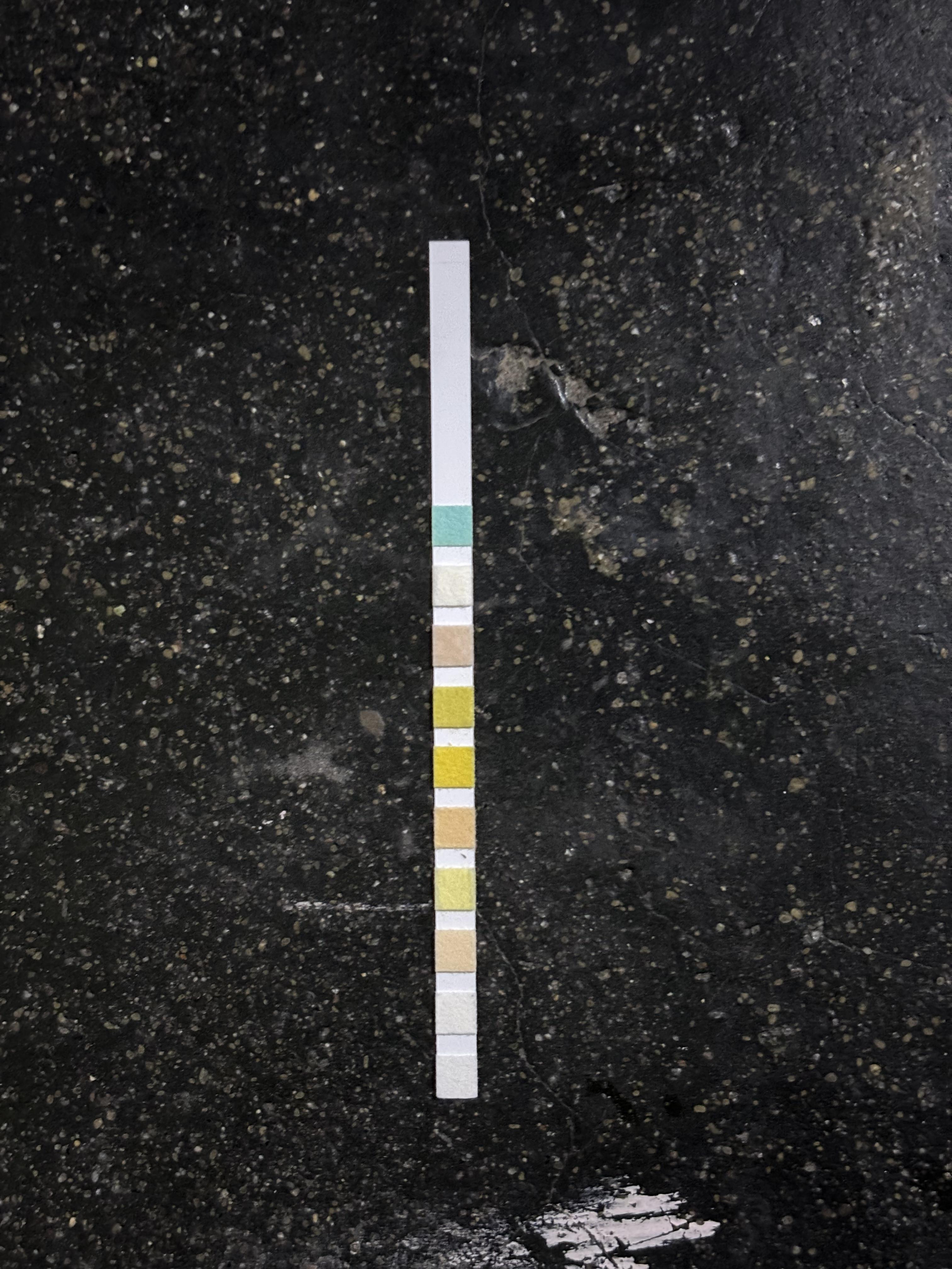Bilirubin: (434, 566, 472, 606)
Blood: (436, 809, 473, 848)
Glucose: (433, 506, 472, 546)
Ketone: (435, 625, 473, 666)
Leukocytes: (437, 1057, 477, 1097)
Nitrite: (437, 992, 476, 1033)
Protein: (434, 688, 473, 726)
SpGravity: (437, 869, 474, 909)
Urobilinogen: (436, 931, 475, 971)
pH: (435, 747, 473, 786)
strip: (428, 241, 478, 1098)
